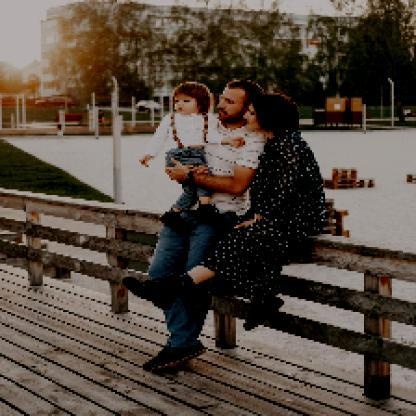child: (138, 83, 248, 235)
